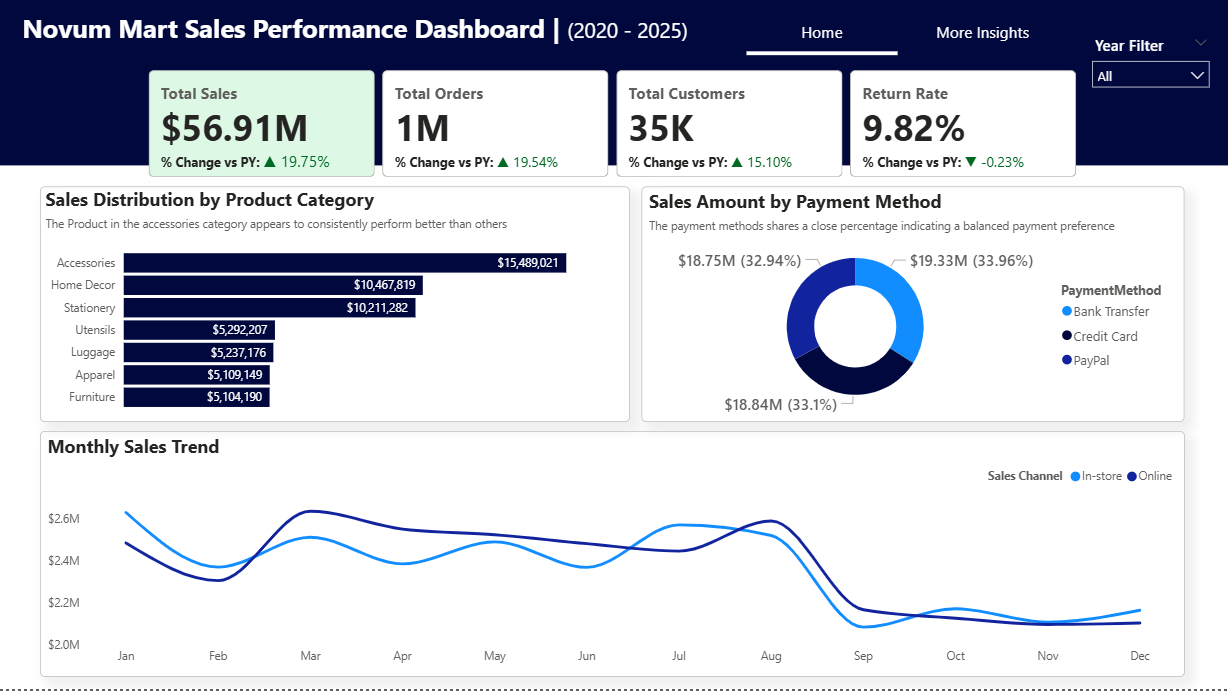

Layout of this report page (visuals, bound fields, positions):
{"tool":"powerbi","page":{"name":"Home","canvas":[1280,720],"ordinal":0},"visuals":[{"type":"shape","box":[1.6,0,1277.9,176.1],"z":0},{"type":"cardVisual","fields":{"Data":["_Measures.Total Sales","_Measures.Total Orders","_Measures.Total Customers","_Measures.Return Rate"]},"box":[151.2,71.7,975.6,121.6],"z":1000},{"type":"slicer","fields":{"Values":["DateTable.Year"]},"box":[1126.8,34.3,141.8,62.3],"z":2000},{"type":"lineChart","title":"Monthly Sales Trend","fields":{"Y":["Sum(NovumMart.SalesAmount)"],"Category":["DateTable.MonthName"],"Series":["NovumMart.SalesChannel"]},"box":[43.6,451.9,1189.1,255.6],"z":3000},{"type":"barChart","title":"Sales Distribution by Product Category","fields":{"Y":["Sum(NovumMart.SalesAmount)"],"Category":["NovumMart.ProductCategory"]},"box":[43.6,197.9,612.5,244.7],"z":4000},{"type":"donutChart","title":"Sales Amount by Payment Method","fields":{"Category":["NovumMart.PaymentMethod"],"Y":["Sum(NovumMart.SalesAmount)"]},"box":[668.6,197.9,564.2,244.7],"z":5000},{"type":"pageNavigator","box":[777.7,12.5,324.2,49.9],"z":6000},{"type":"textbox","box":[20.3,9.4,768.3,56.1],"z":7000}]}

Visuals, with their boxes in screenshot pixels (x1, y1, x2, y2), scaled from the page's 1280x720 canvas onto the 1228x691 screenshot:
shape: (x1=2, y1=0, x2=1227, y2=169)
cardVisual - _Measures.Total Sales x _Measures.Total Orders: (x1=145, y1=69, x2=1081, y2=186)
slicer - DateTable.Year: (x1=1081, y1=33, x2=1217, y2=93)
"Monthly Sales Trend" lineChart: (x1=42, y1=434, x2=1183, y2=679)
"Sales Distribution by Product Category" barChart: (x1=42, y1=190, x2=629, y2=425)
"Sales Amount by Payment Method" donutChart: (x1=641, y1=190, x2=1183, y2=425)
pageNavigator: (x1=746, y1=12, x2=1057, y2=60)
textbox: (x1=19, y1=9, x2=757, y2=63)
